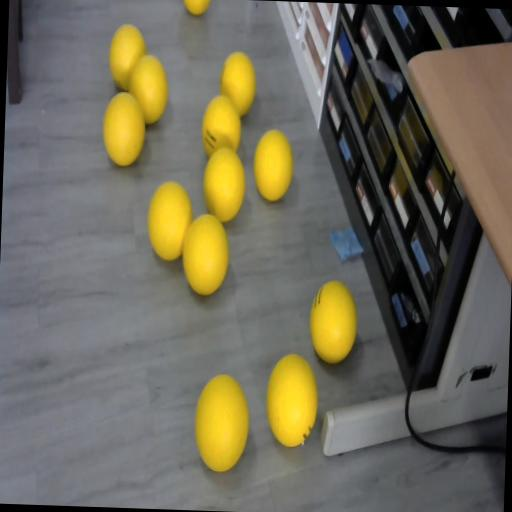FUEL: (191, 370, 250, 472), (263, 352, 319, 448), (178, 210, 230, 296), (308, 278, 358, 363), (144, 178, 194, 262), (201, 146, 247, 222), (101, 91, 147, 167), (252, 128, 294, 201), (108, 22, 146, 92), (218, 50, 258, 116), (181, 0, 211, 15)
